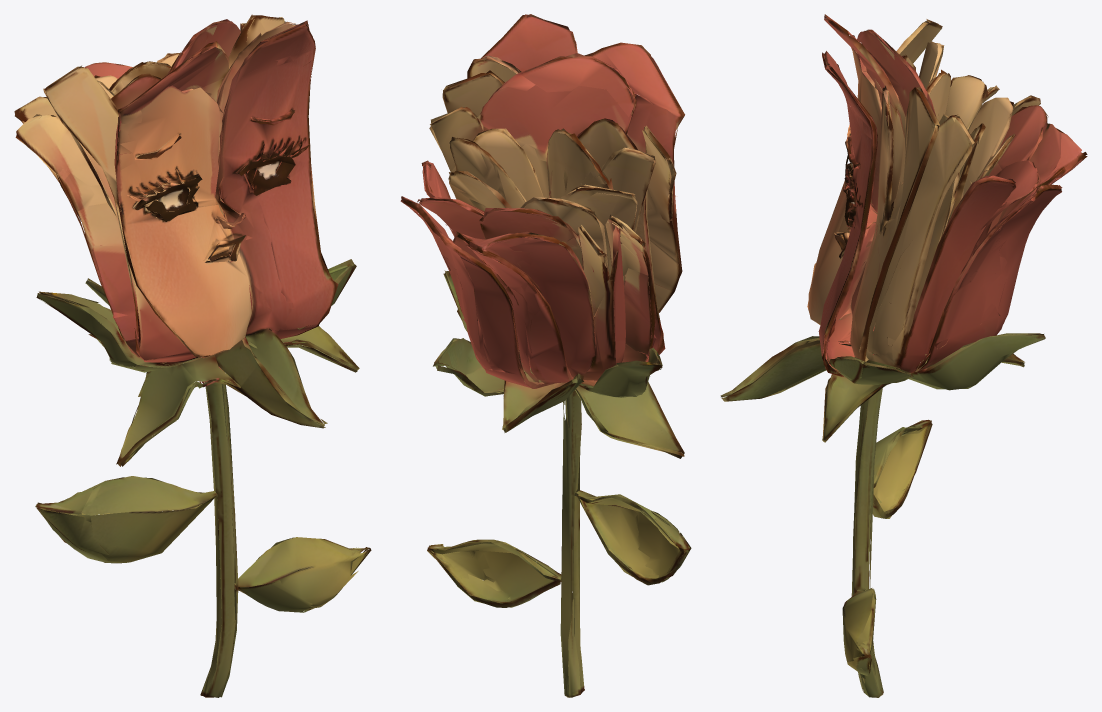
File: rose_normal.glb
3 views of the same model, side by side, from view 1: azimuth 30°, elevation 25°; view 2: azimuth 150°, elevation 25°; view 3: azimuth 270°, elevation 25° (orthographic). The views are drawn at different scales.
Visible parts, largest first — view 1: node_0; view 2: node_0; view 3: node_0.
Part boxes in pixels (bbox=[...]): node_0: bbox=[14, 14, 371, 697]; node_0: bbox=[400, 14, 691, 697]; node_0: bbox=[720, 14, 1087, 697].
Bounding box in the file's own units: 0.5416 × 1.15 × 0.5789.
Materials: 1 (1 with a texture image).
